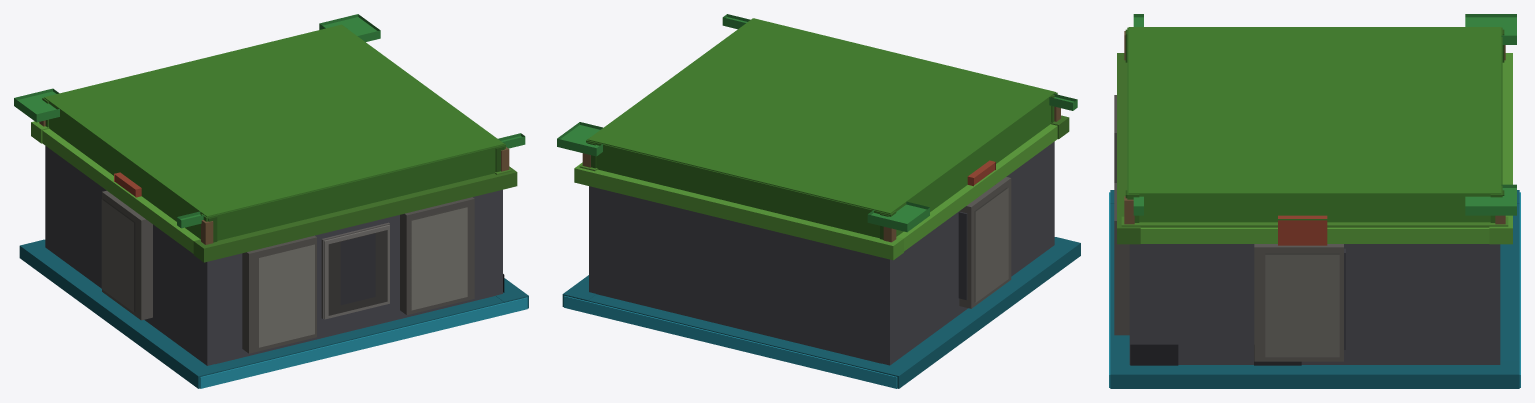
Rendered from MoaiSil.fbx.
3 renders of one model, left to right at view 1: azimuth 30°, elevation 25°; view 2: azimuth 150°, elevation 25°; view 3: azimuth 270°, elevation 25°, orthographic. The views are drawn at different scales.
Visible parts, largest first — view 1: MO_S_All; view 2: MO_S_All; view 3: MO_S_All.
Part boxes in pixels (bbox=[...]): MO_S_All: bbox=[14, 14, 528, 388]; MO_S_All: bbox=[557, 14, 1080, 388]; MO_S_All: bbox=[1109, 14, 1520, 388].
Size of the model in its own units: 44.24 by 20 by 40.04.
